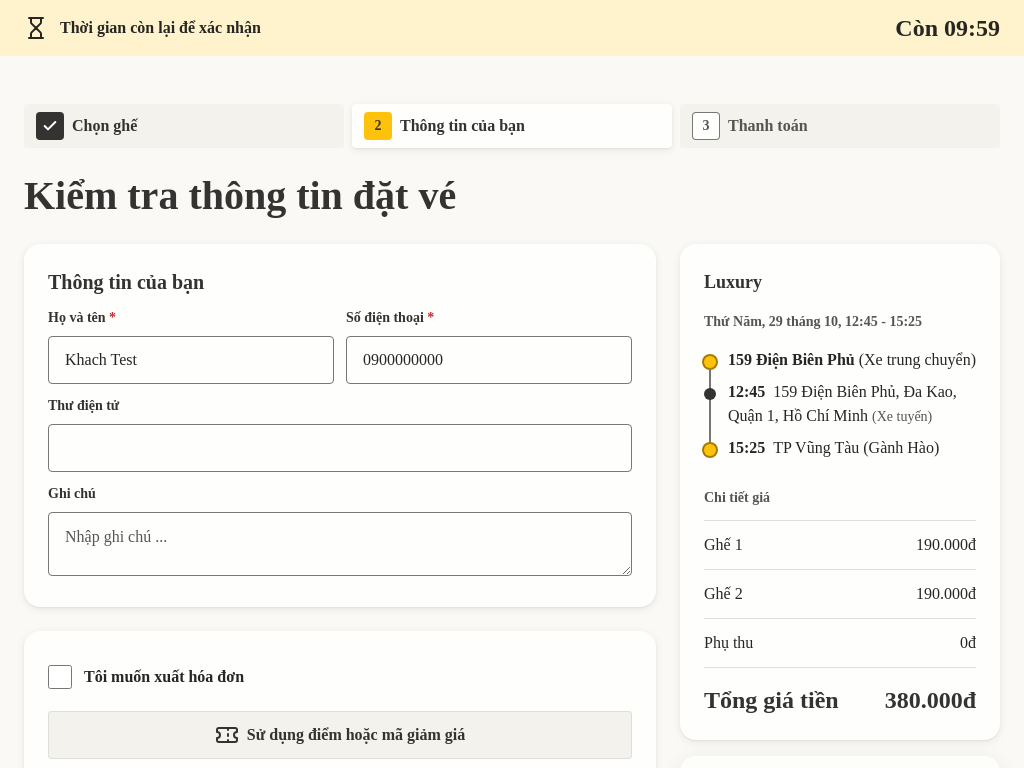
Test: ConfirmPage: kiểm tra form chặn gửi › xoá cả họ tên và số điện thoại → vẫn cảnh báo, không gửi booking thiếu if_customer
Clear the field labelled "Họ và tên *": point(191, 360) x1=48 y1=336 x2=334 y2=384
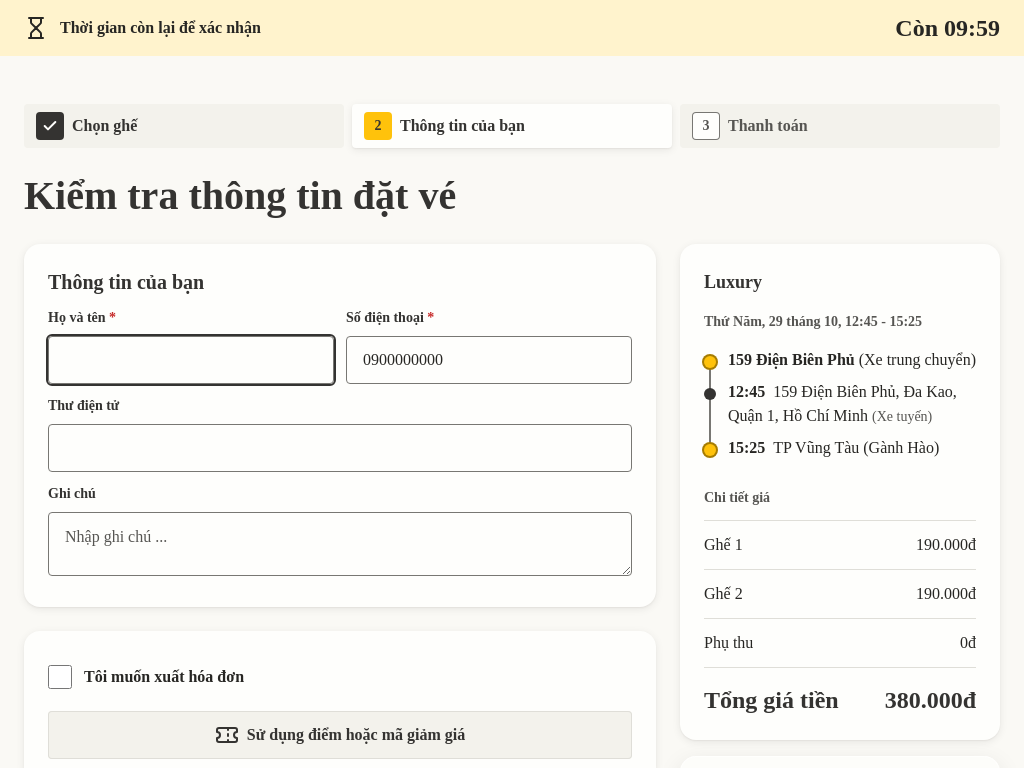
Clear the field labelled "Số điện thoại *": point(489, 360) x1=346 y1=336 x2=632 y2=384
(page scrolled)
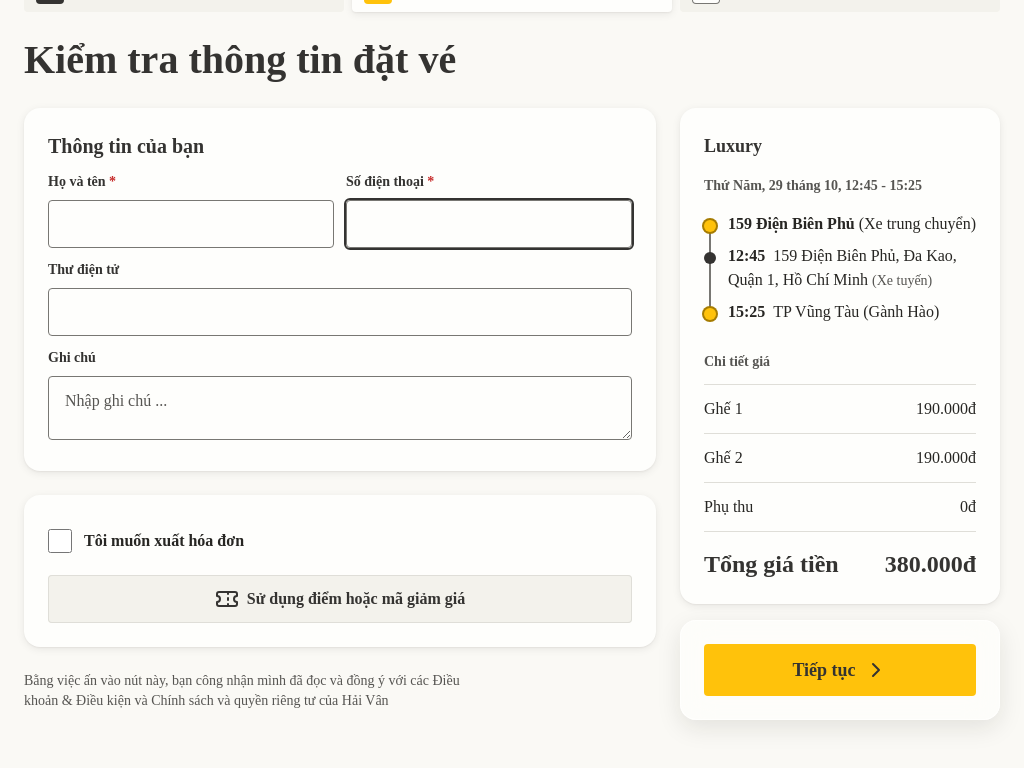
Click the button "Tiếp tục": point(840, 670) x1=704 y1=644 x2=976 y2=696
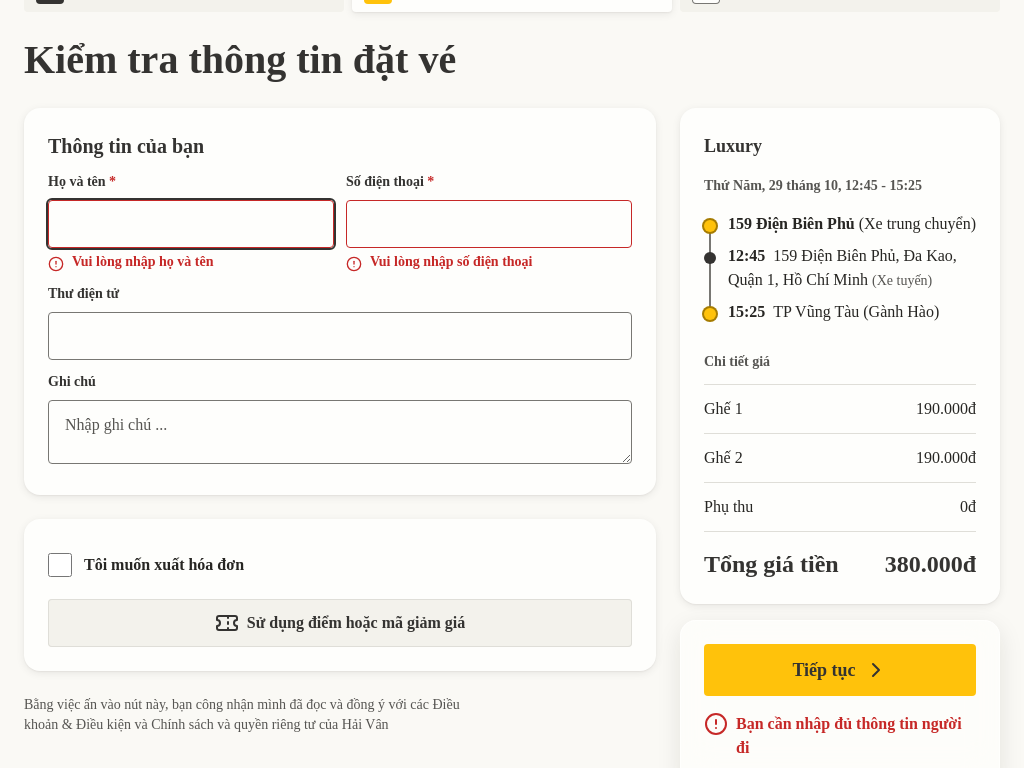
Now the text "Bạn cần nhập đủ thông tin người đi" is shown, box x1=704 y1=712 x2=976 y2=760
